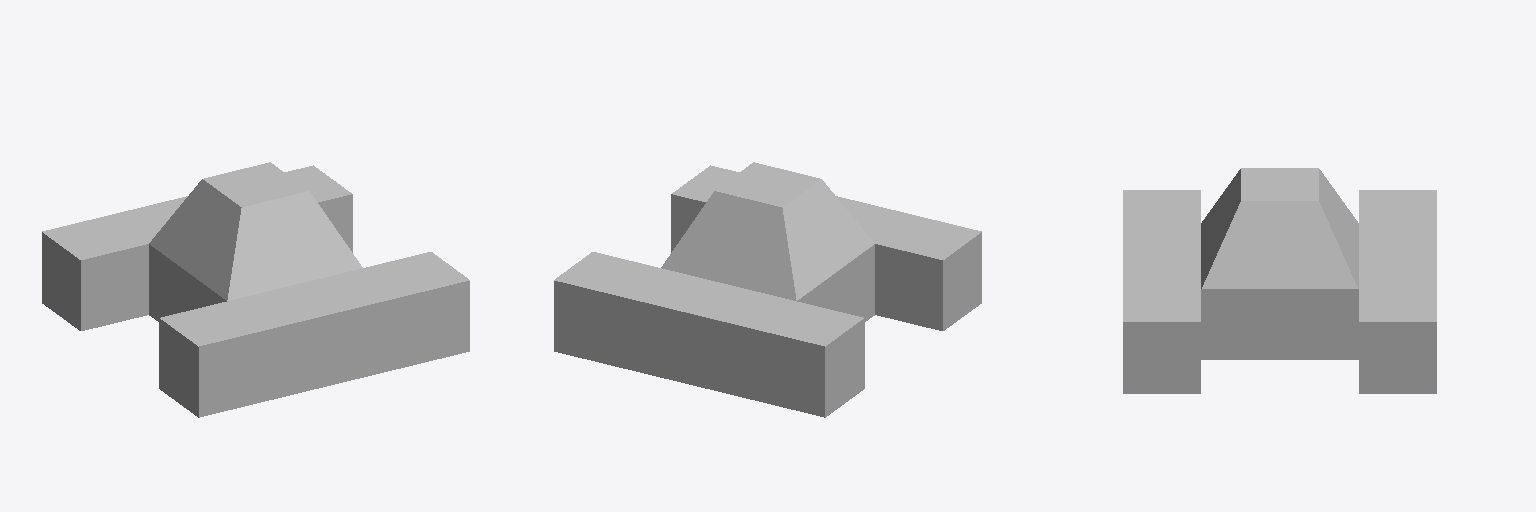
File: tank.obj
The picture shows the model from 3 angles: view 1: azimuth 30°, elevation 25°; view 2: azimuth 150°, elevation 25°; view 3: azimuth 270°, elevation 25°; orthographic projection.
Bounding box in the file's own units: 4 × 2 × 4.